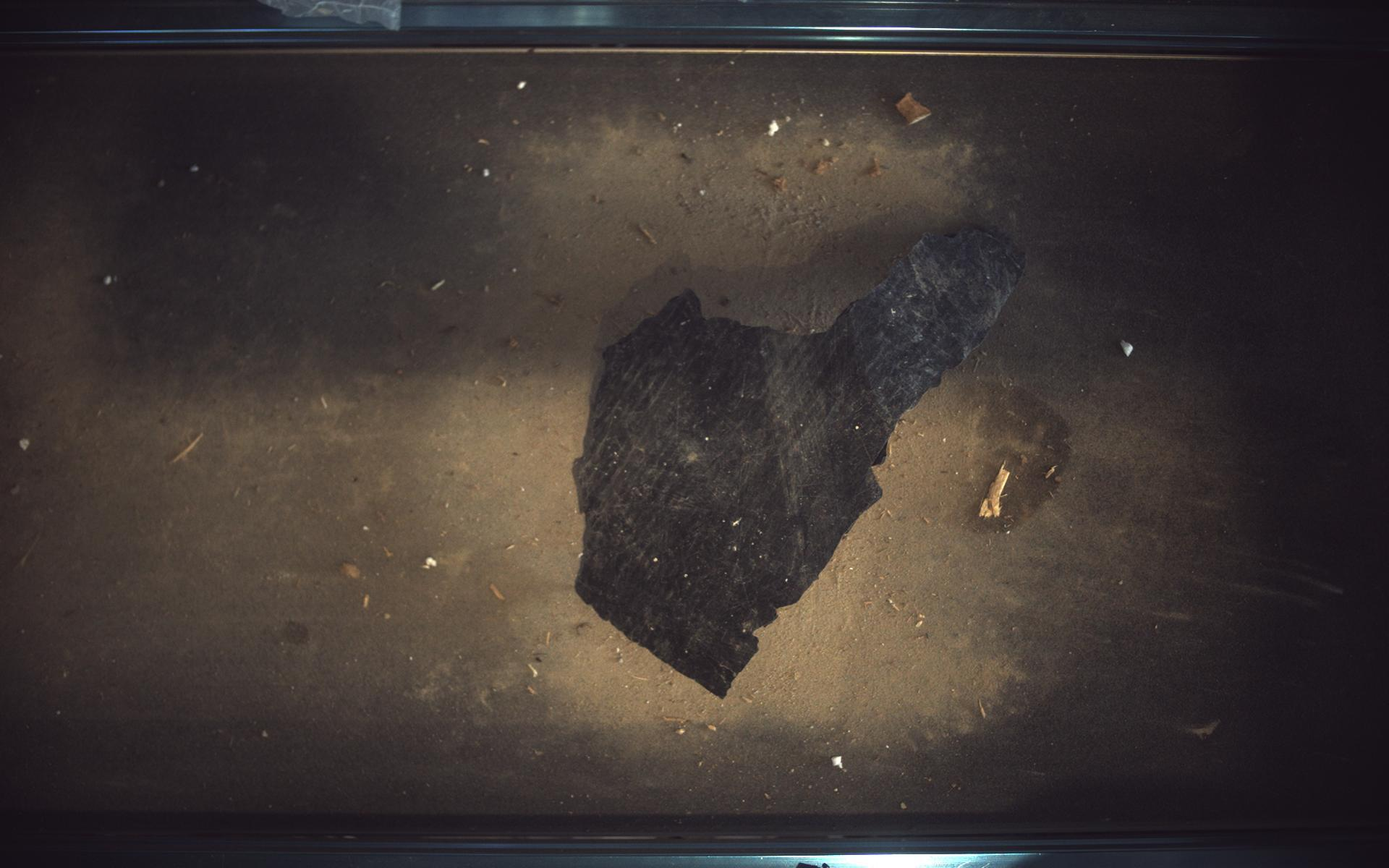plastic: (574, 227, 1027, 698)
